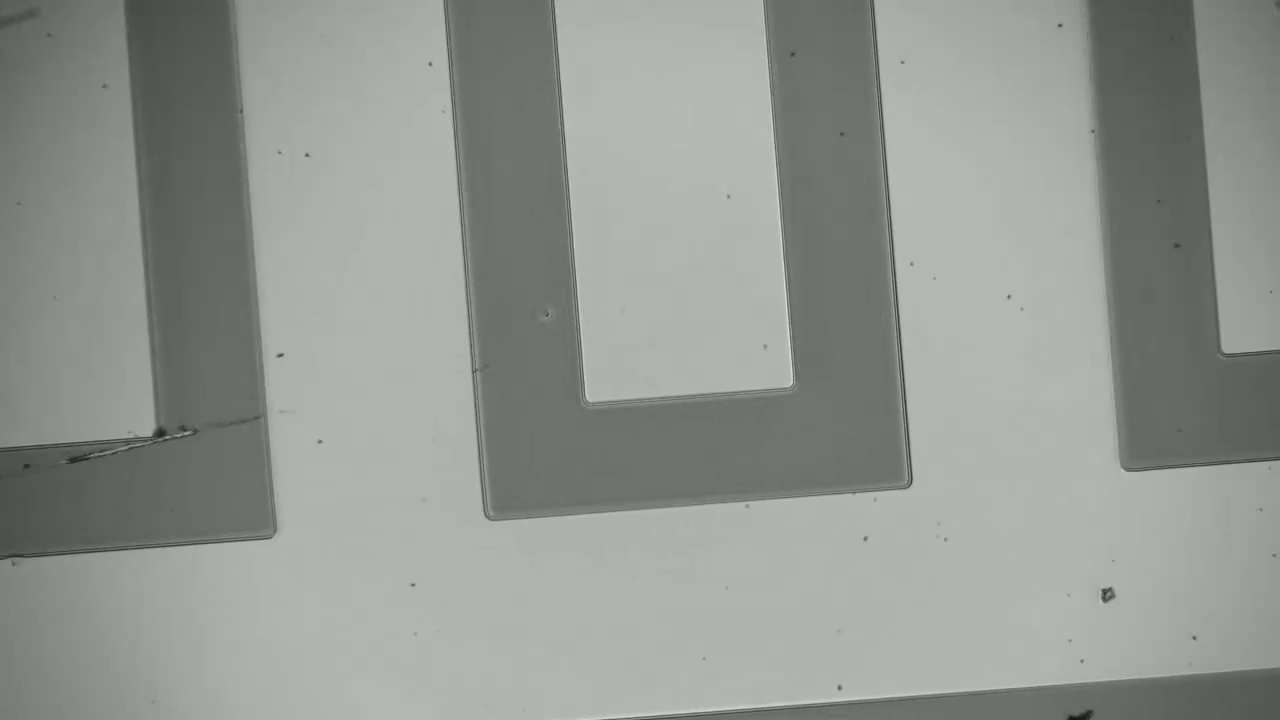scratch: (4, 415, 262, 485)
